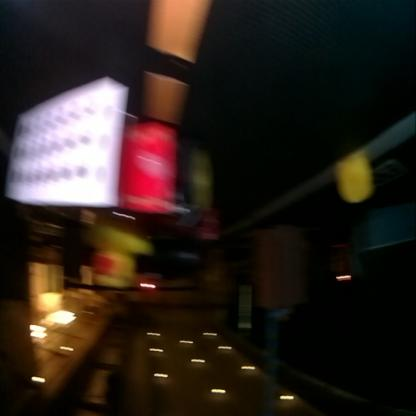Duckie: (91, 232, 149, 288), (335, 158, 372, 202)
Duckiebot: (6, 81, 220, 245)
QR code: (376, 160, 406, 188)
